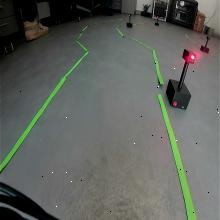red: (181, 48, 197, 65)
